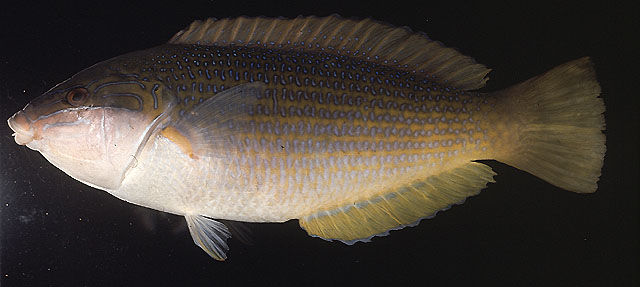fish: (8, 14, 608, 260)
